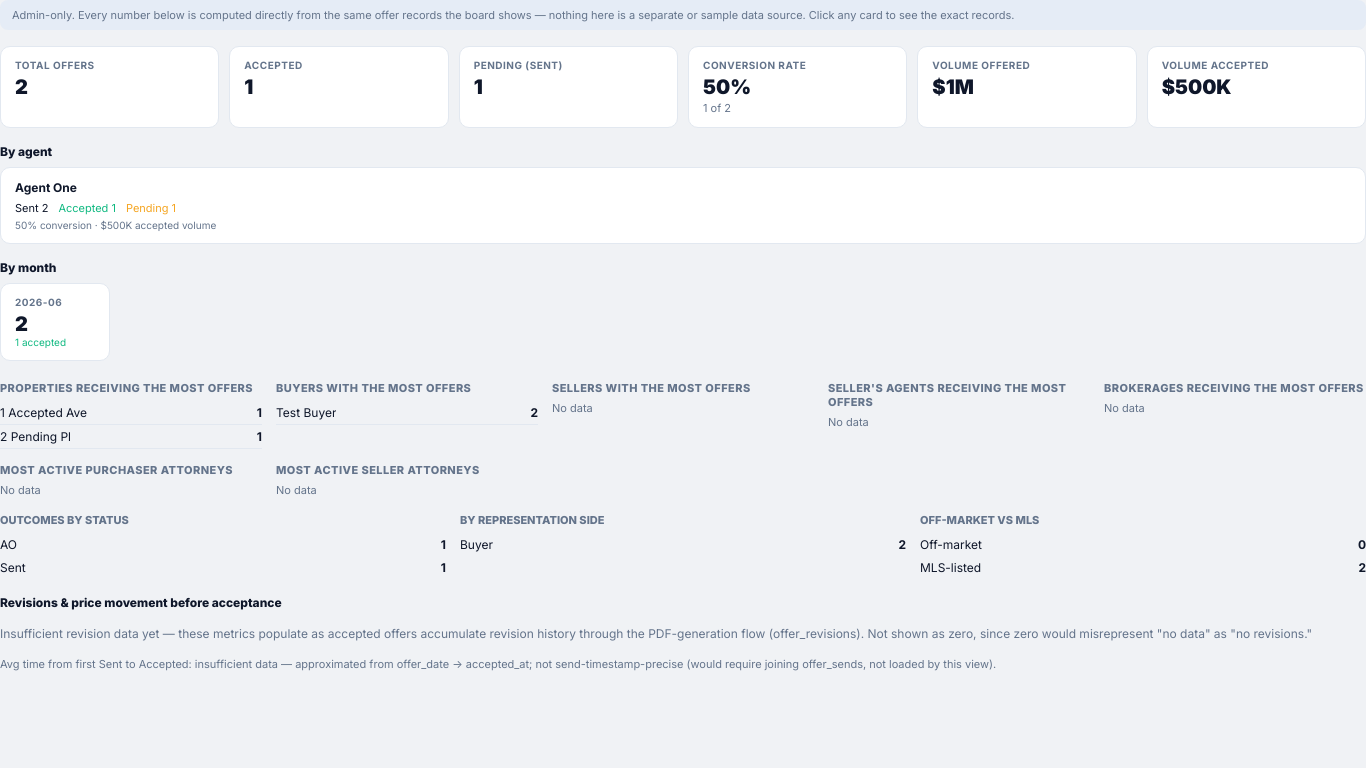
Test case: AdminOfferReports — aggregation correctness › drill-down shows exactly the records behind a clicked metric, not a sample
Click the text "Accepted" at (274, 65), box [244, 59, 303, 71]
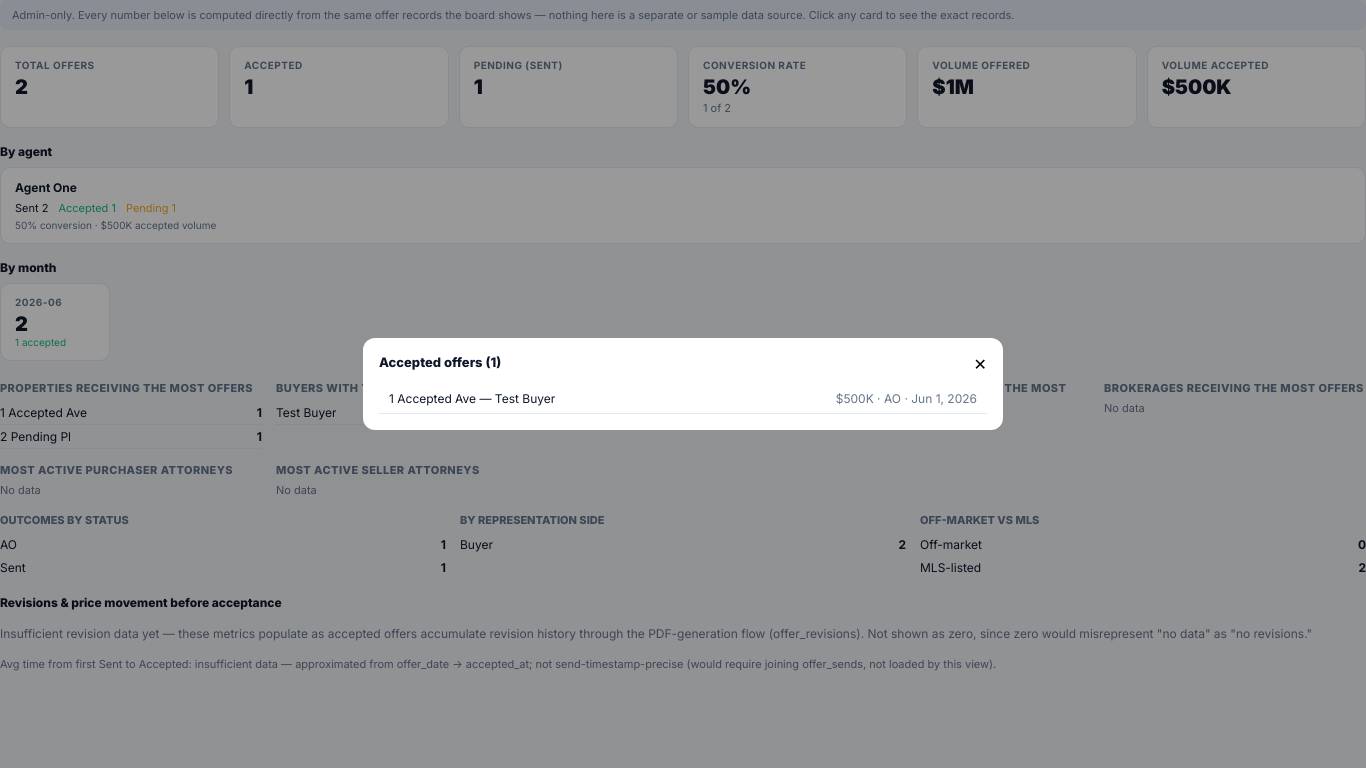
Now the text "1 Accepted Ave — Test Buyer" is shown, box [389, 391, 555, 406]
